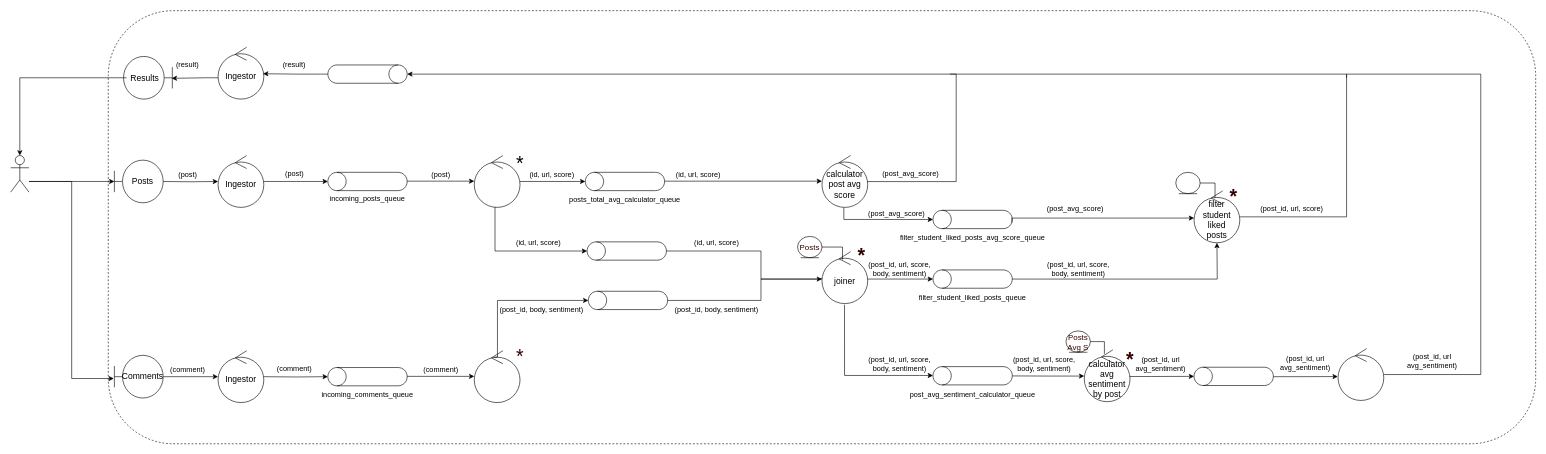
The diagram is 1546 pixels wide and 454 high, and some of its shapes have lost their labels. The shapes that lost their labels are listed below. From the top down, each one's box as (x1, y1, x2, y2) in pixels, then its label:
(327, 64, 407, 83): results_queue
(10, 155, 29, 192): Client
(474, 155, 520, 207): filter posts
(1175, 172, 1200, 194): Posts Sent
(587, 241, 666, 260): posts_joiner_queue
(588, 291, 668, 310): comments_joiner_queue
(474, 350, 520, 403): filter comments
(1193, 367, 1273, 386): filter_post_max_avg_sentiment_queue
(1337, 348, 1384, 400): filter post max avg sentiment
